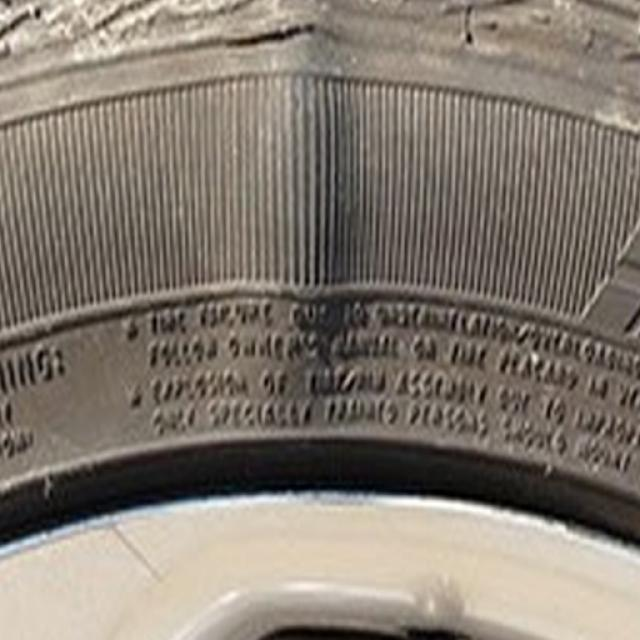Bulge: (238, 47, 362, 440)
